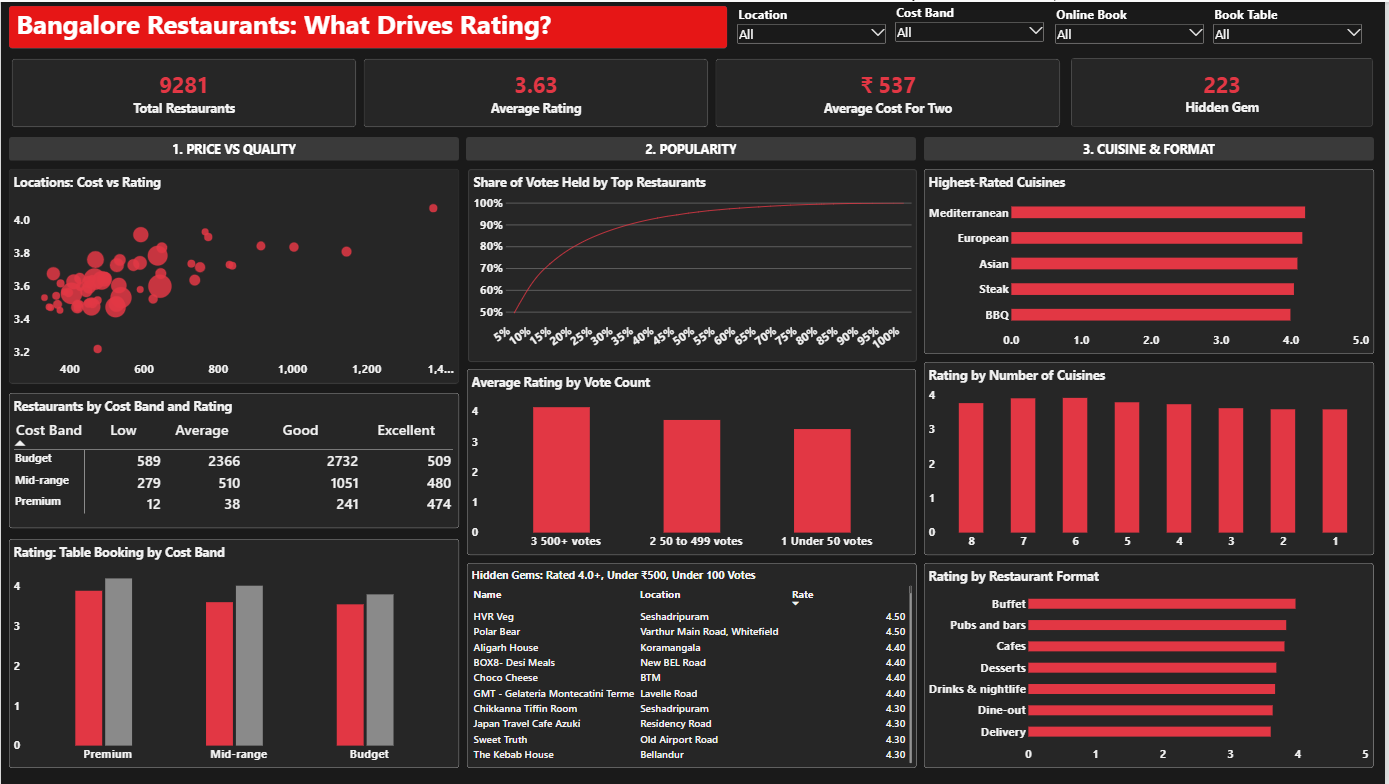

The dashboard page shown, as its layout file describes it:
{"tool":"powerbi","page":{"name":"Page 1","canvas":[5130,2900],"ordinal":0},"visuals":[{"type":"textbox","box":[29.7,14.8,2662.7,155.8],"z":0},{"type":"slicer","fields":{"Values":["restaurants.location"]},"box":[2725.8,14.7,559.9,154.7],"z":1000},{"type":"slicer","fields":{"Values":["restaurants.cost_band"]},"box":[3311.4,7.4,559.9,169.4],"z":2000},{"type":"slicer","fields":{"Values":["restaurants.online_order"]},"box":[3905,14.8,560,155.8],"z":3000},{"type":"slicer","fields":{"Values":["restaurants.book_table"]},"box":[4490.9,14.8,560,155.8],"z":4000},{"type":"cardVisual","fields":{"Data":["CountNonNull(restaurants.name)","Avg(restaurants.rate)","Avg(restaurants.cost_for_two)"]},"box":[29.7,200.3,3908.7,274.4],"z":5000},{"type":"cardVisual","fields":{"Data":["CountNonNull(restaurants.hidden_gem)"]},"box":[3968,207,1119.9,255],"z":6000},{"type":"scatterChart","title":"Locations: Cost vs Rating","fields":{"Category":["restaurants.location"],"Size":["CountNonNull(restaurants.name)"],"X":["Avg(restaurants.cost_for_two)"],"Y":["Avg(restaurants.rate)"]},"box":[29.7,619.3,1668.8,793.6],"z":7000},{"type":"pivotTable","title":"Restaurants by Cost Band and Rating","fields":{"Columns":["restaurants.rating_band"],"Rows":["restaurants.cost_band"],"Values":["CountNonNull(restaurants.name)"]},"box":[29.7,1450,1668.8,500.6],"z":8000},{"type":"clusteredColumnChart","title":"Rating: Table Booking by Cost Band","fields":{"Category":["restaurants.cost_band"],"Series":["restaurants.book_table"],"Y":["Avg(restaurants.rate)"]},"box":[29.7,1991.4,1668.8,849.2],"z":9000},{"type":"lineChart","title":"Share of Votes Held by Top Restaurants","fields":{"Category":["restaurants.top_pct_label"],"Y":["restaurants.Cumulative Vote Share"]},"box":[1731.8,619.3,1665.1,715.7],"z":10000},{"type":"clusteredColumnChart","title":"Average Rating by Vote Count","fields":{"Category":["restaurants.votes_band"],"Y":["Avg(restaurants.rate)"]},"box":[1728.1,1361,1665.1,689.8],"z":11000},{"type":"tableEx","title":"Hidden Gems: Rated 4.0+, Under ₹500, Under 100 Votes","fields":{"Values":["restaurants.name","restaurants.location","restaurants.rate"]},"box":[1727,2080,1667,760],"z":12000},{"type":"clusteredBarChart","title":"Highest-Rated Cuisines","fields":{"Category":["zomato_cuisine_summary.cuisine"],"Y":["Avg(zomato_cuisine_summary.average_rating)"]},"box":[3422.9,619.3,1668.8,686.1],"z":13000},{"type":"clusteredColumnChart","title":"Rating by Number of Cuisines","fields":{"Category":["restaurants.cuisines_count"],"Y":["Avg(restaurants.rate)"]},"box":[3422.9,1335,1668.8,715.7],"z":14000},{"type":"clusteredBarChart","title":"Rating by Restaurant Format","fields":{"Category":["restaurants.listed_type"],"Y":["Avg(restaurants.rate)"]},"box":[3424,2080,1667,760],"z":15000},{"type":"shape","box":[29.5,500.9,1668.6,88.4],"z":16000},{"type":"shape","box":[1724.4,500.6,1668.6,88.4],"z":17000},{"type":"shape","box":[3422.9,500.6,1668.6,88.4],"z":18000}]}

Visuals, with their boxes in screenshot pixels (x1, y1, x2, y2), scaled from the page's 5130x2900 canvas onto the 1389x784 screenshot:
textbox: x1=8 y1=4 x2=729 y2=46
slicer - restaurants.location: x1=738 y1=4 x2=890 y2=46
slicer - restaurants.cost_band: x1=897 y1=2 x2=1048 y2=48
slicer - restaurants.online_order: x1=1057 y1=4 x2=1209 y2=46
slicer - restaurants.book_table: x1=1216 y1=4 x2=1368 y2=46
cardVisual - CountNonNull(restaurants.name) x Avg(restaurants.rate): x1=8 y1=54 x2=1066 y2=128
cardVisual - CountNonNull(restaurants.hidden_gem): x1=1074 y1=56 x2=1378 y2=125
"Locations: Cost vs Rating" scatterChart: x1=8 y1=167 x2=460 y2=382
"Restaurants by Cost Band and Rating" pivotTable: x1=8 y1=392 x2=460 y2=527
"Rating: Table Booking by Cost Band" clusteredColumnChart: x1=8 y1=538 x2=460 y2=768
"Share of Votes Held by Top Restaurants" lineChart: x1=469 y1=167 x2=920 y2=361
"Average Rating by Vote Count" clusteredColumnChart: x1=468 y1=368 x2=919 y2=554
"Hidden Gems: Rated 4.0+, Under ₹500, Under 100 Votes" tableEx: x1=468 y1=562 x2=919 y2=768
"Highest-Rated Cuisines" clusteredBarChart: x1=927 y1=167 x2=1379 y2=353
"Rating by Number of Cuisines" clusteredColumnChart: x1=927 y1=361 x2=1379 y2=554
"Rating by Restaurant Format" clusteredBarChart: x1=927 y1=562 x2=1378 y2=768
shape: x1=8 y1=135 x2=460 y2=159
shape: x1=467 y1=135 x2=919 y2=159
shape: x1=927 y1=135 x2=1379 y2=159
